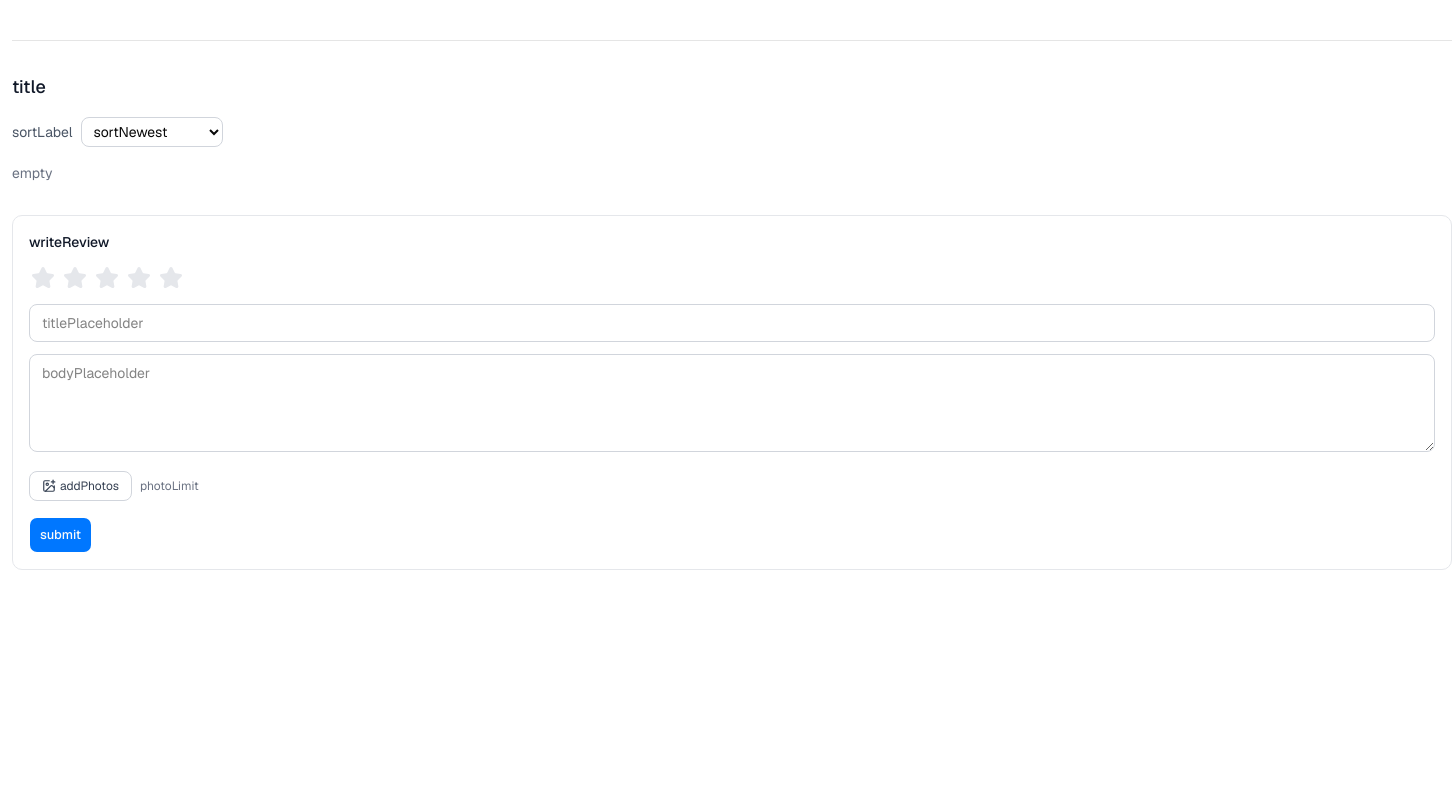
ProductReviews › requires a star rating before submitting
Click the button "submit" at (60, 535), box [29, 517, 92, 553]
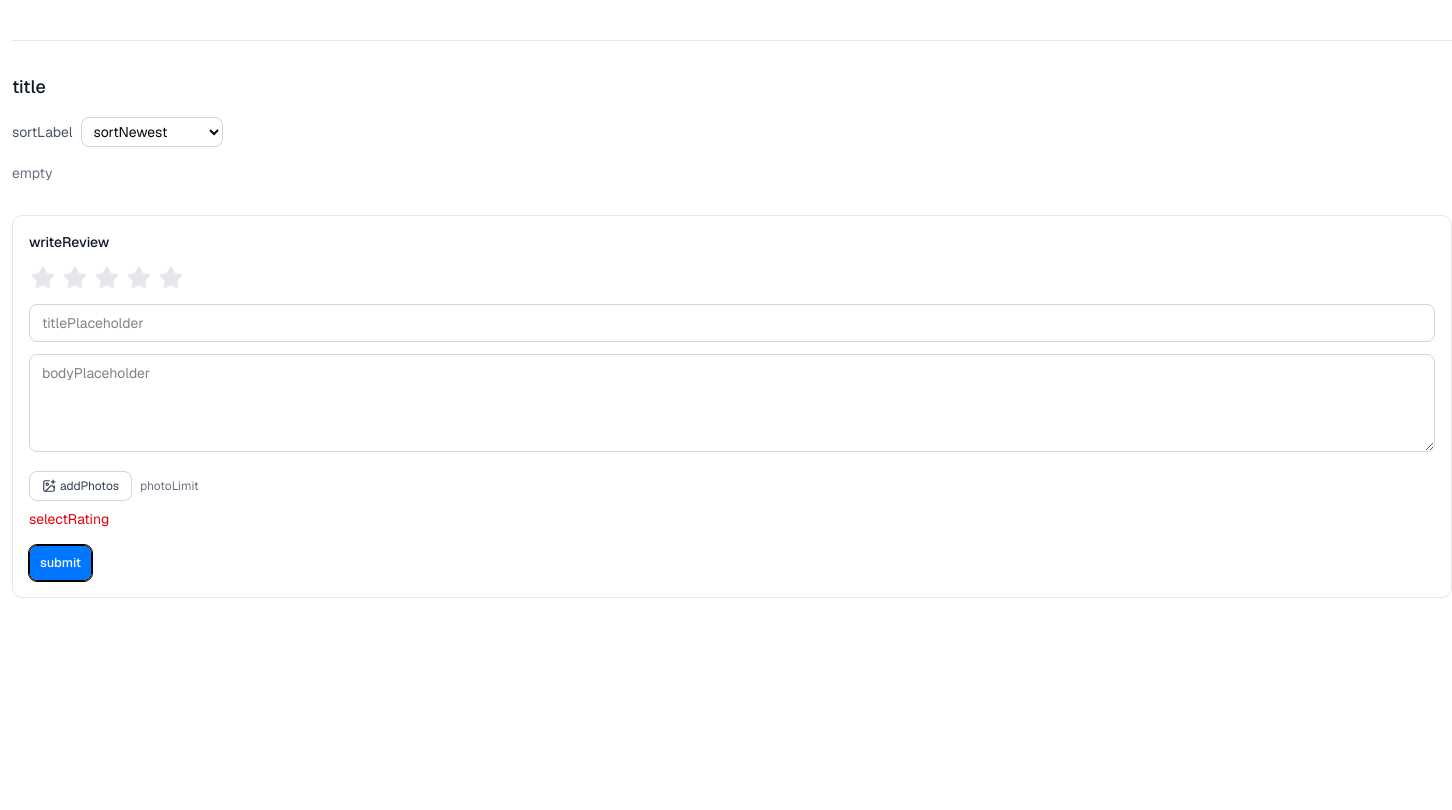
Expected: the text "selectRating" is shown, [29, 510, 109, 528]
